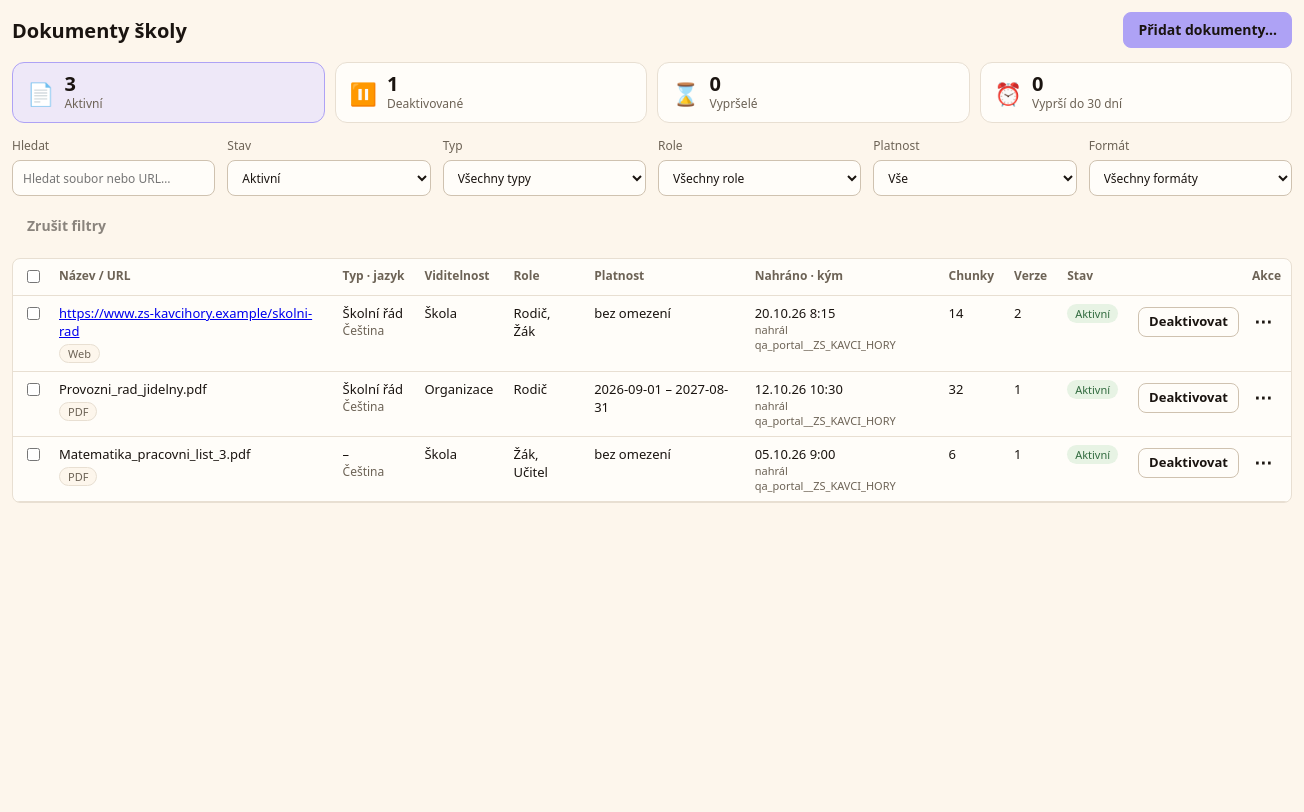
DocumentsPage — bulk actions › deactivates the selected documents one after another and reports the outcome
Expected: the table is shown, [13, 259, 1291, 502]
Click the checkbox named "Vybrat dokument https://www.zs-kavcihory.example/skolni-rad": (34, 314) [27, 307, 40, 320]
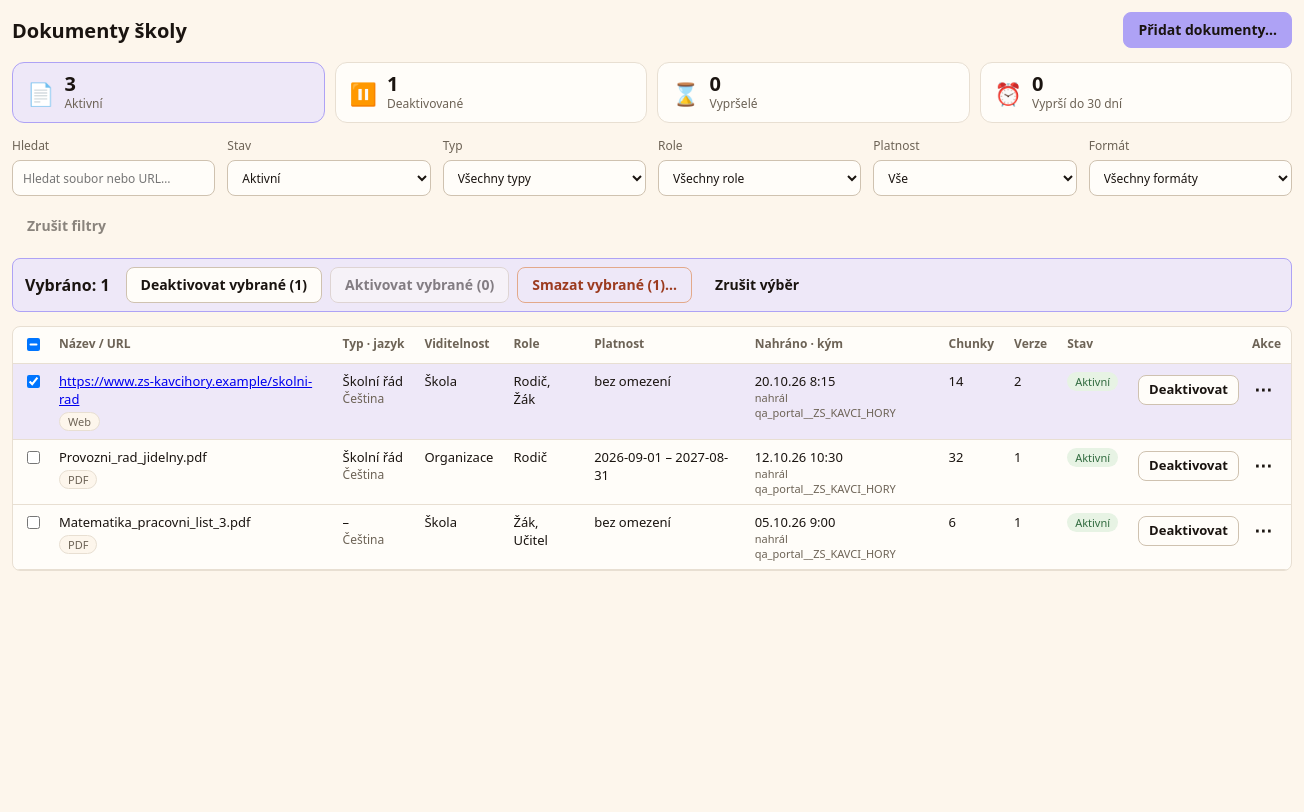
Click the checkbox named "Vybrat dokument Provozni_rad_jidelny.pdf": (34, 458) [27, 451, 40, 464]
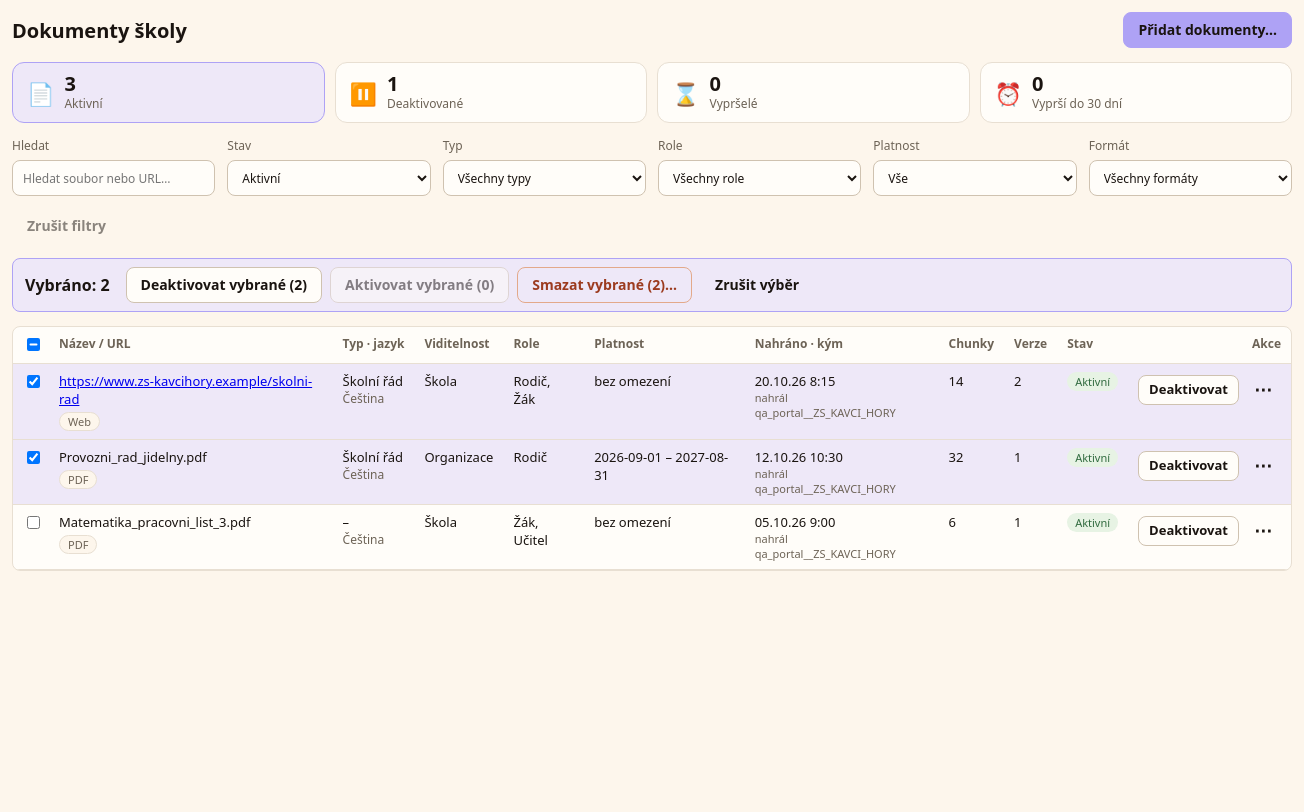
Click the button "Deaktivovat vybrané (2)": (224, 285) [126, 267, 322, 303]
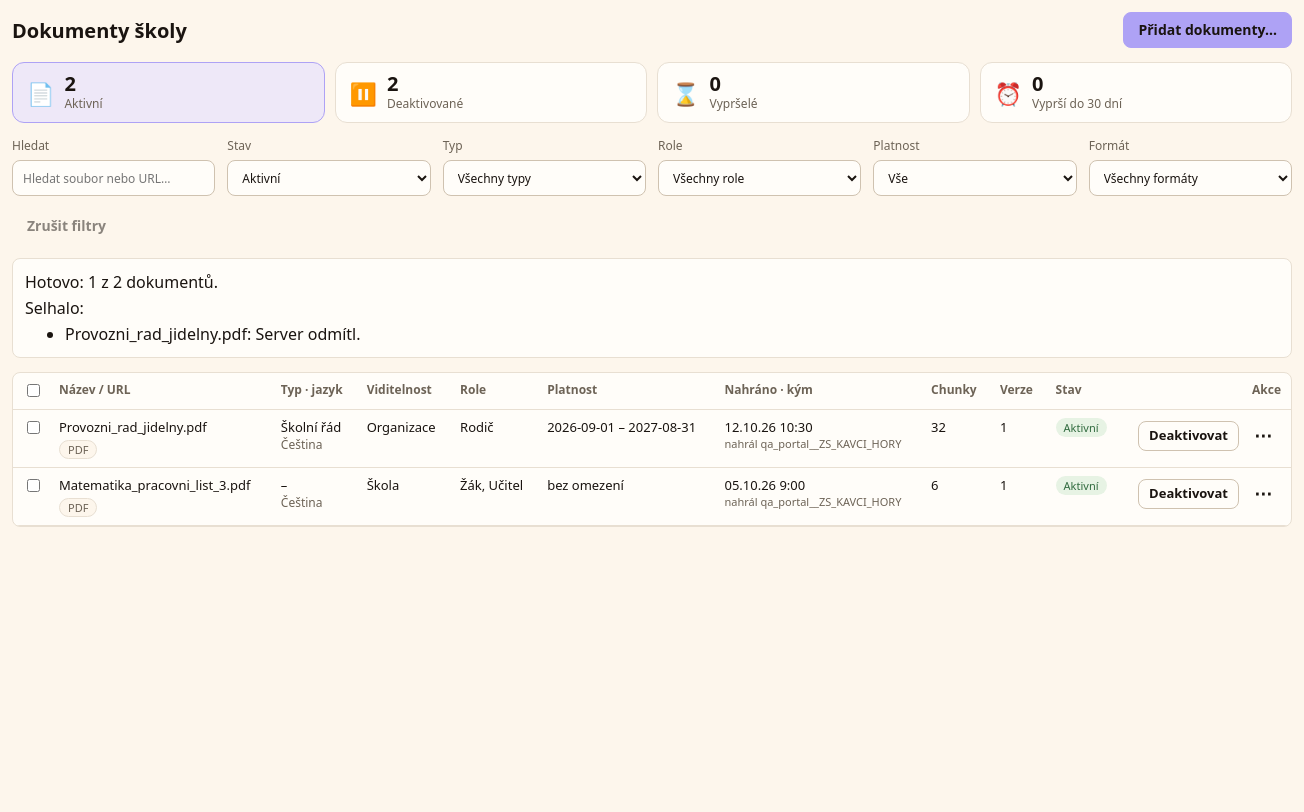
Expected: the text "Provozni_rad_jidelny.pdf" is shown, [59, 418, 207, 436]
Result: the link "https://www.zs-kavcihory.example/skolni-rad" is gone
